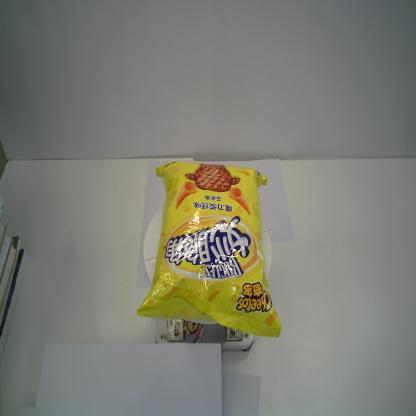Puffed Food: (132, 159, 283, 339)
